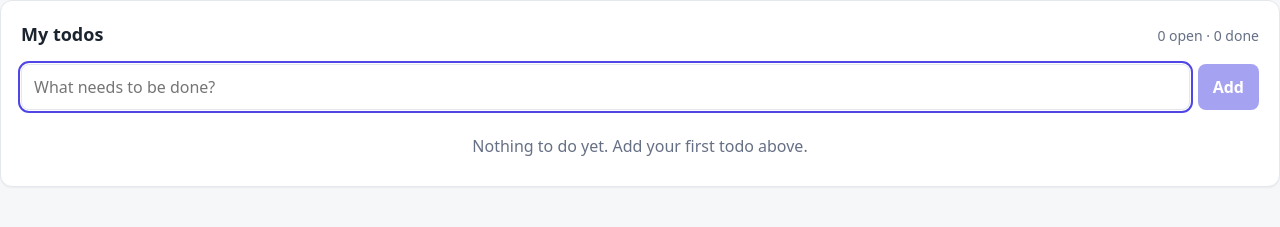
TodoApp › creates a todo and clears the input
The image size is (1280, 227).
In the field with test id "new-todo-input": (605, 87) [21,64,1190,110], type "Prepare the demo"
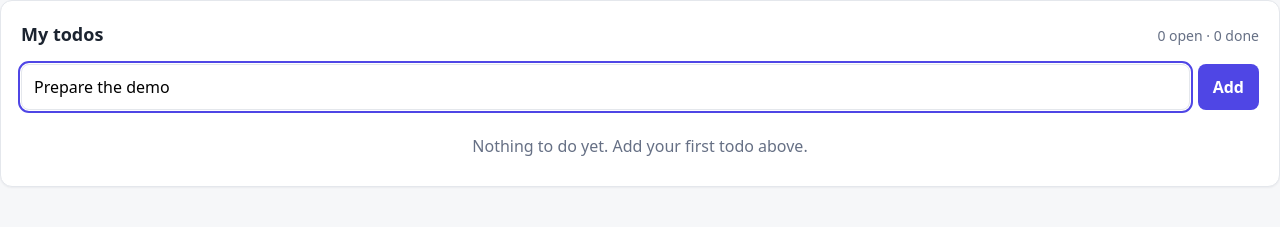
Click the button with test id "add-todo-button": (1228, 87) [1198,64,1259,110]
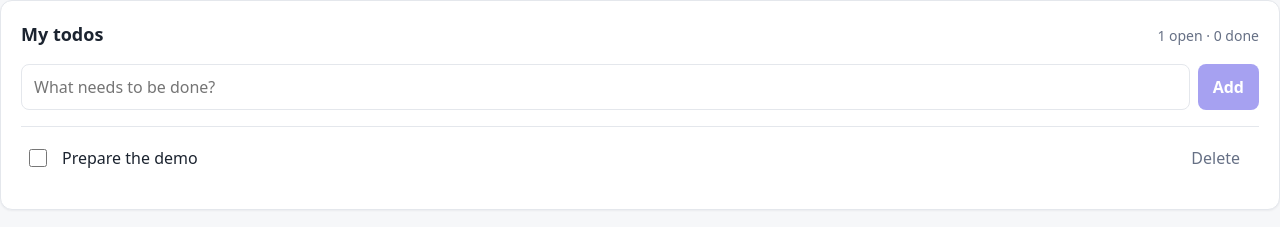
Check: the text "Prepare the demo" is shown, box [62,147,198,169]
Check: the field with test id "new-todo-input" is empty, box [21,64,1190,110]
